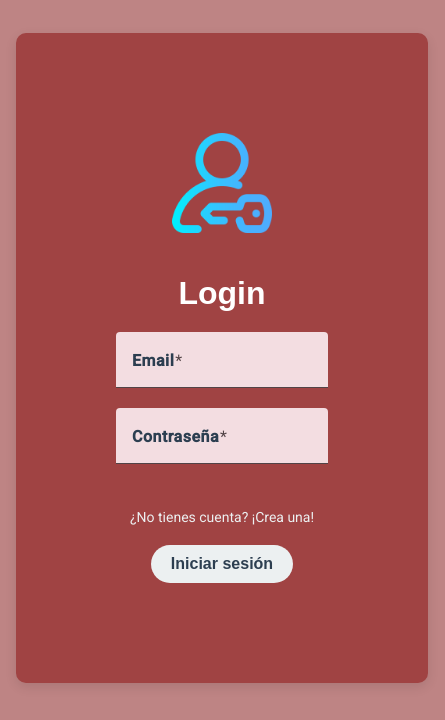
Test: Login Page › Should show an error for incorrect login credentials
Type "user@example.com" into the field named "emailFormControl" at (222,368), box [132, 356, 312, 380]
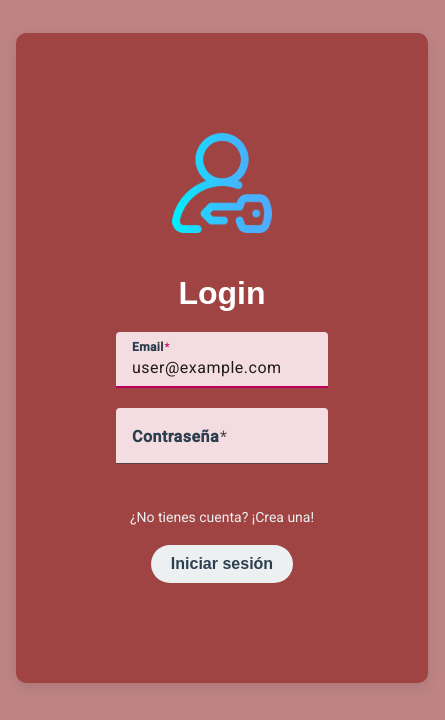
Type "wrongpassword" into the password field named "textViewContrasenya" at (222,444), box [132, 432, 312, 456]
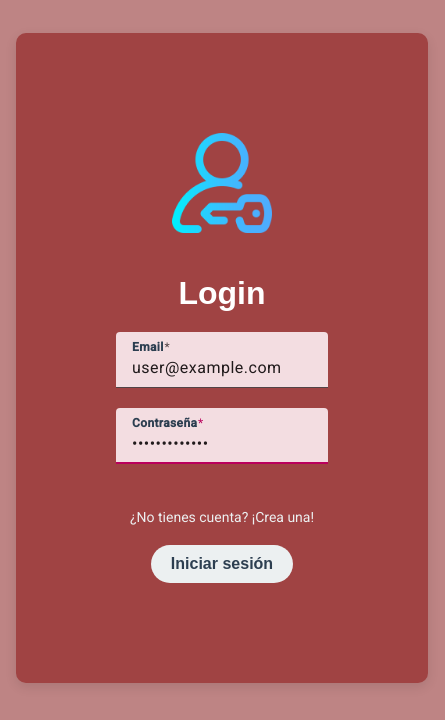
Click the submit button at (222,564), box [151, 545, 293, 583]
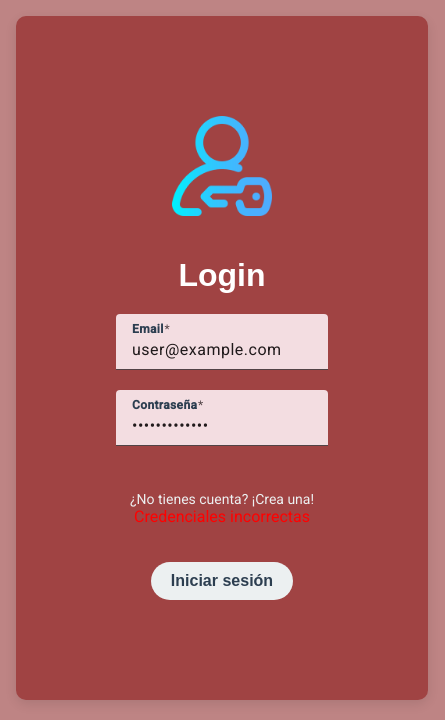
Now the text "Credenciales incorrectas" is shown, box [134, 507, 310, 526]
